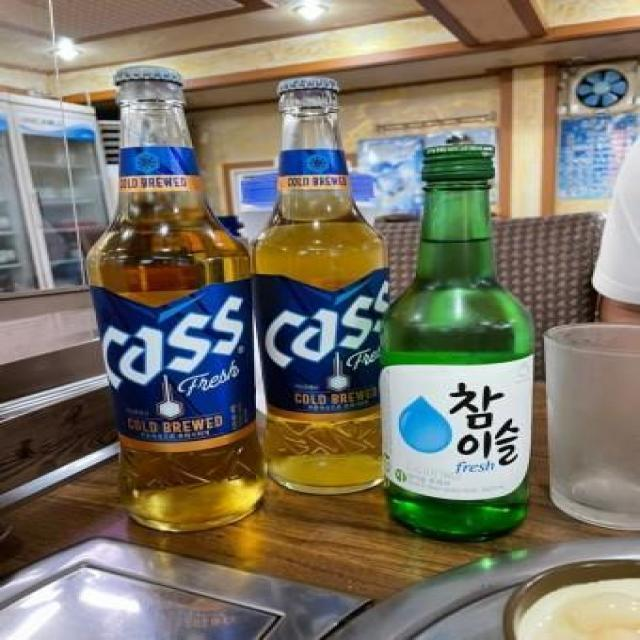beer-bottle: (70, 63, 272, 534), (245, 76, 392, 498)
soju-bottle: (378, 145, 538, 546)
